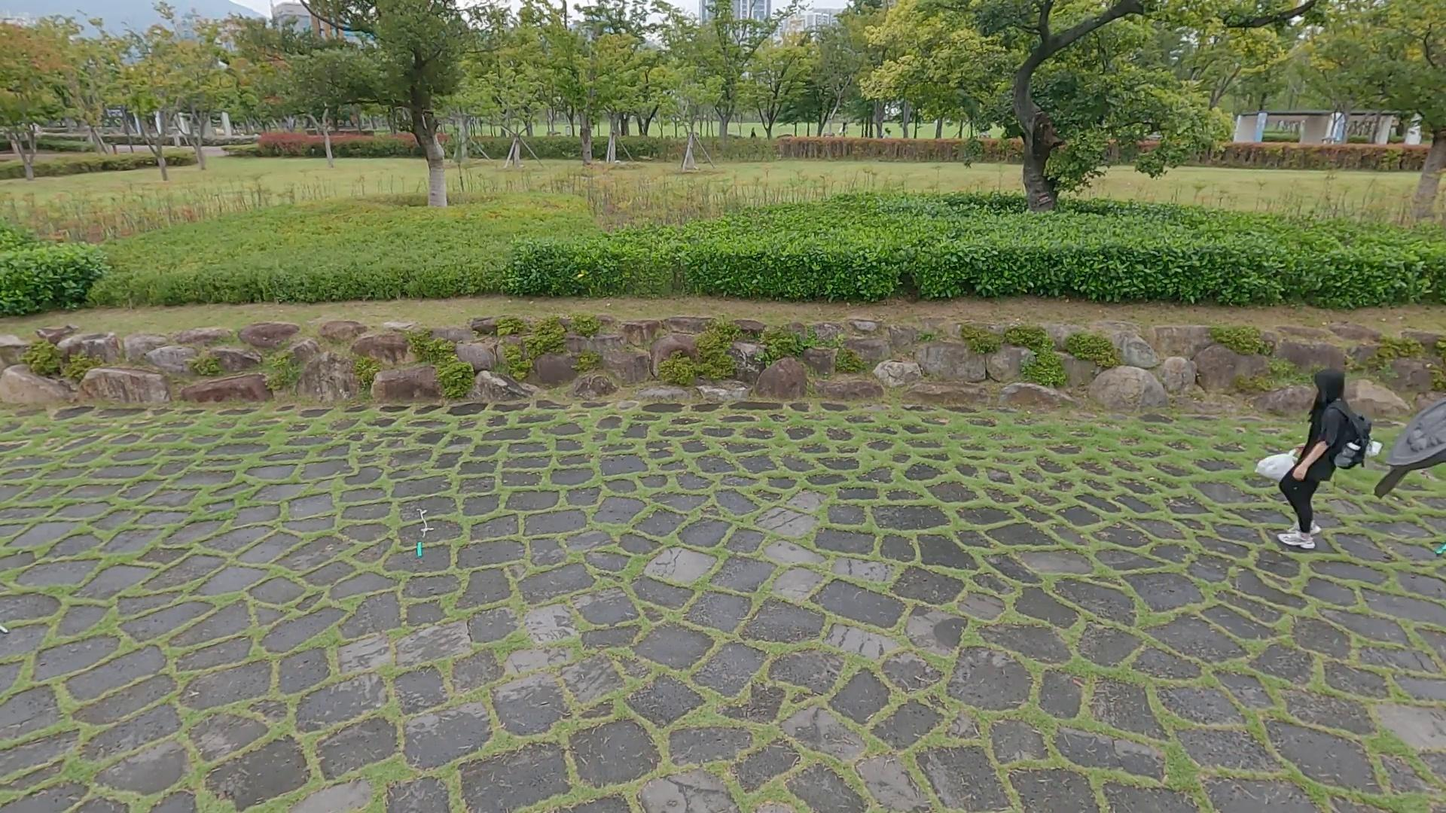person: (1275, 361, 1375, 561)
trash: (1251, 446, 1302, 489)
